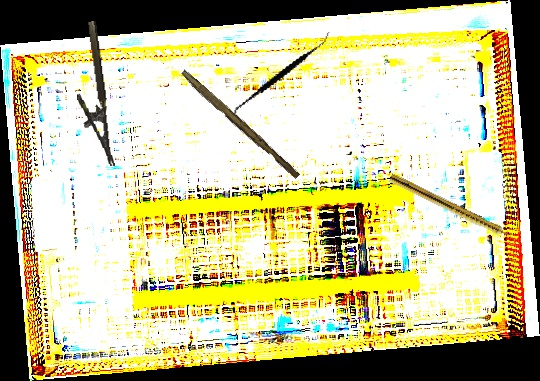Handpiece: (387, 173, 518, 245)
Needle Holder: (68, 20, 115, 170)
Scalpel Handle: (177, 69, 303, 180)
Spatula Surgical: (231, 11, 331, 141)
